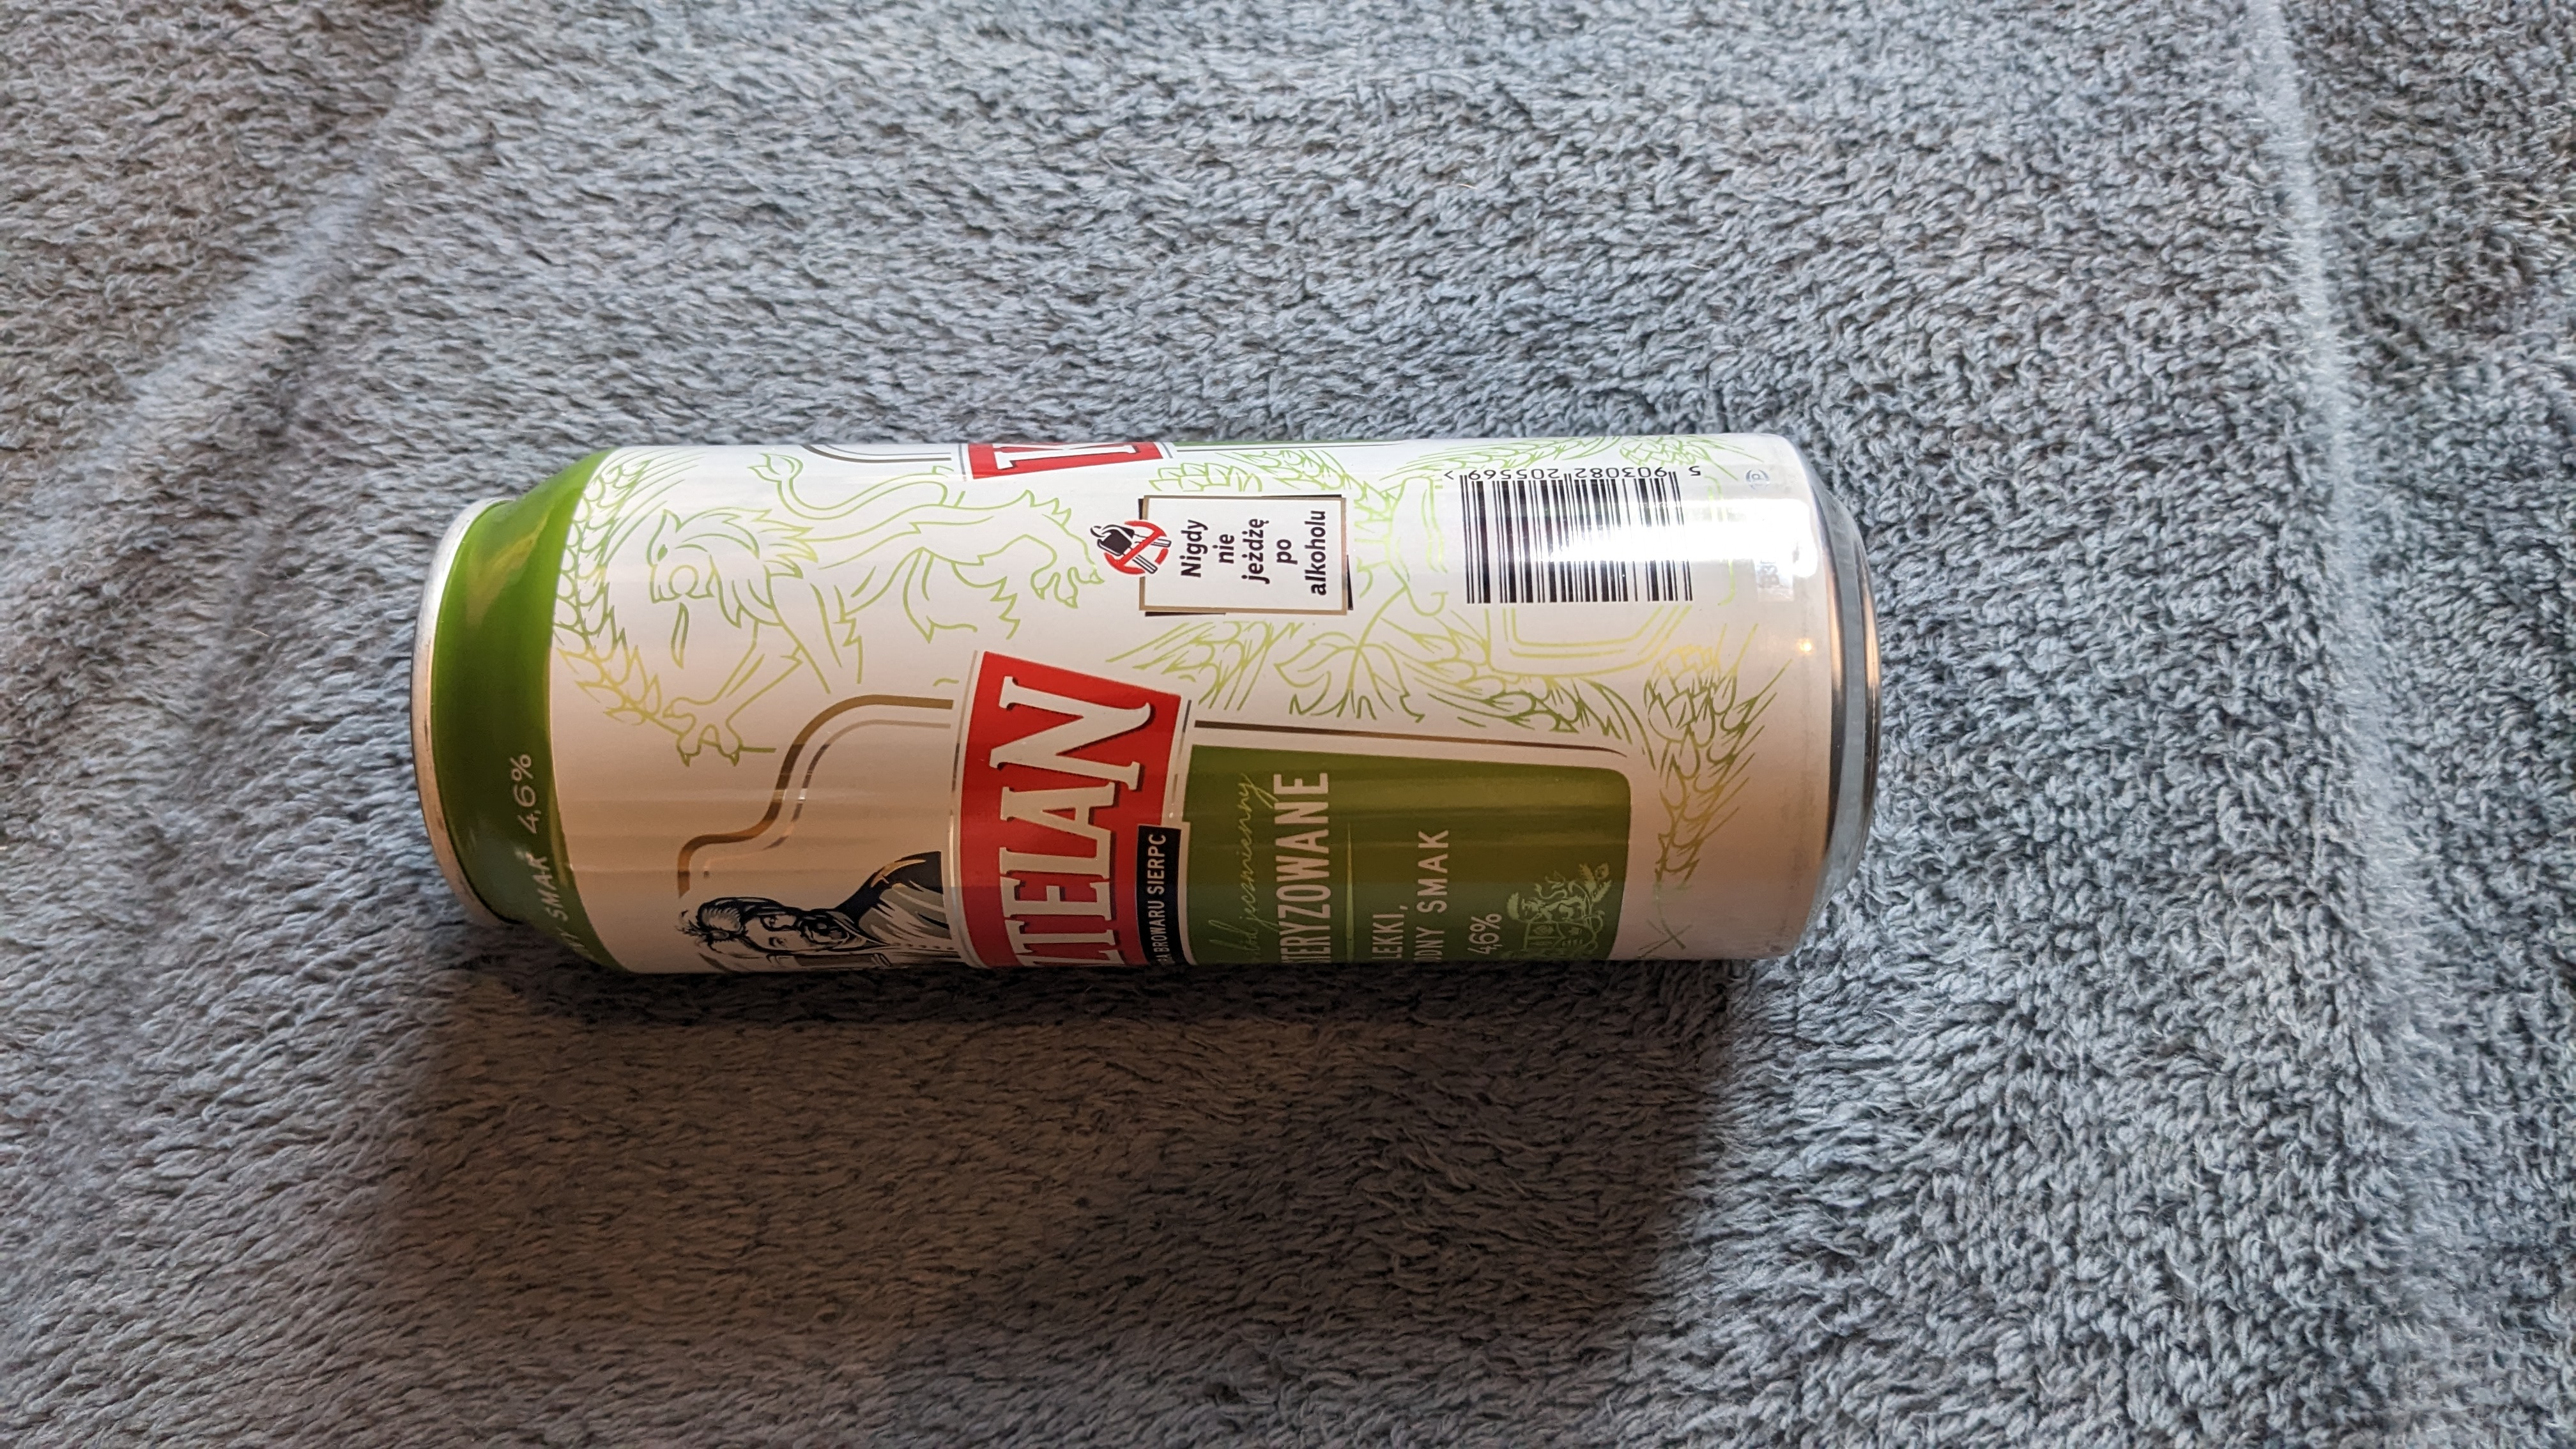kasztelan: (377, 441, 1897, 980)
